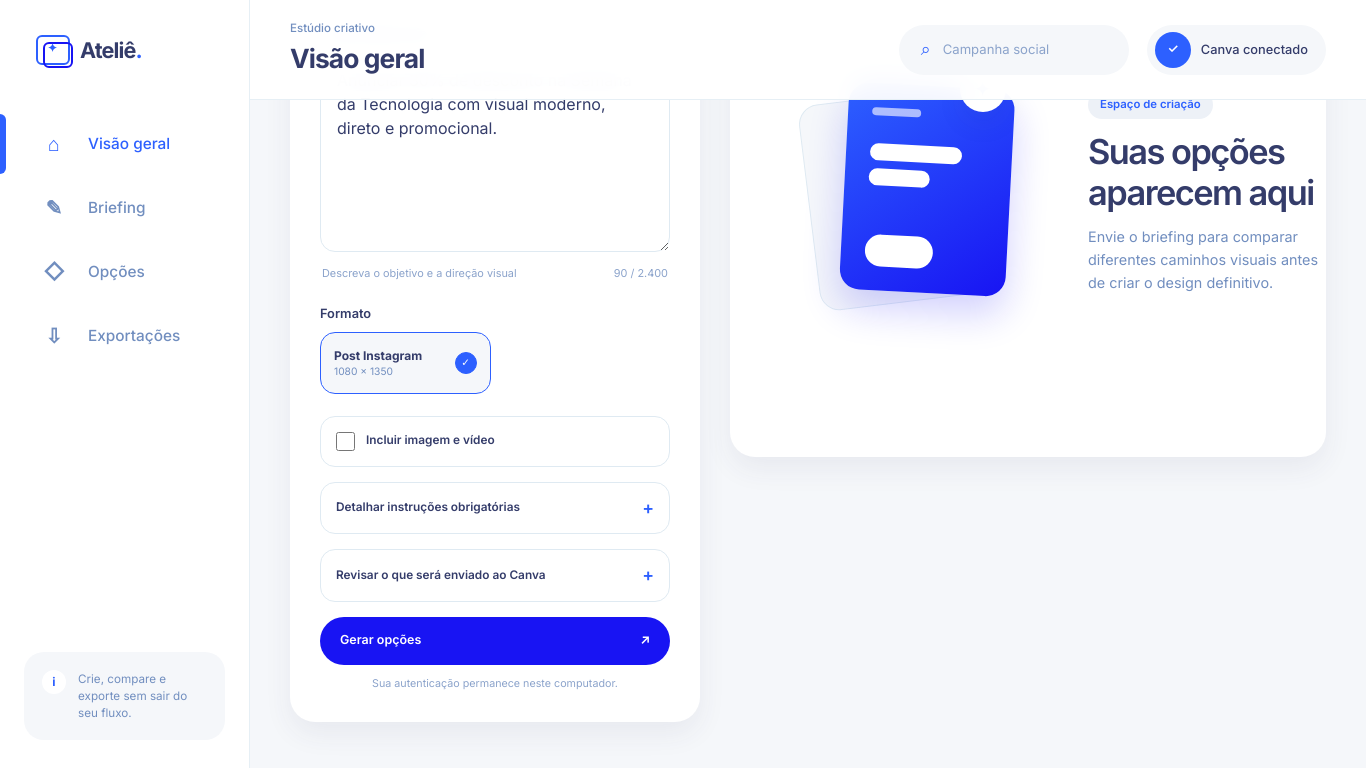
Test case: Home › apresenta os candidatos sem criar um design automaticamente
(page scrolled)
Expected: the text "Canva conectado" is shown, [1201, 40, 1308, 59]
Click the button "Gerar opções ↗".
click(381, 640)  # box [320, 617, 670, 665]
(page scrolled)
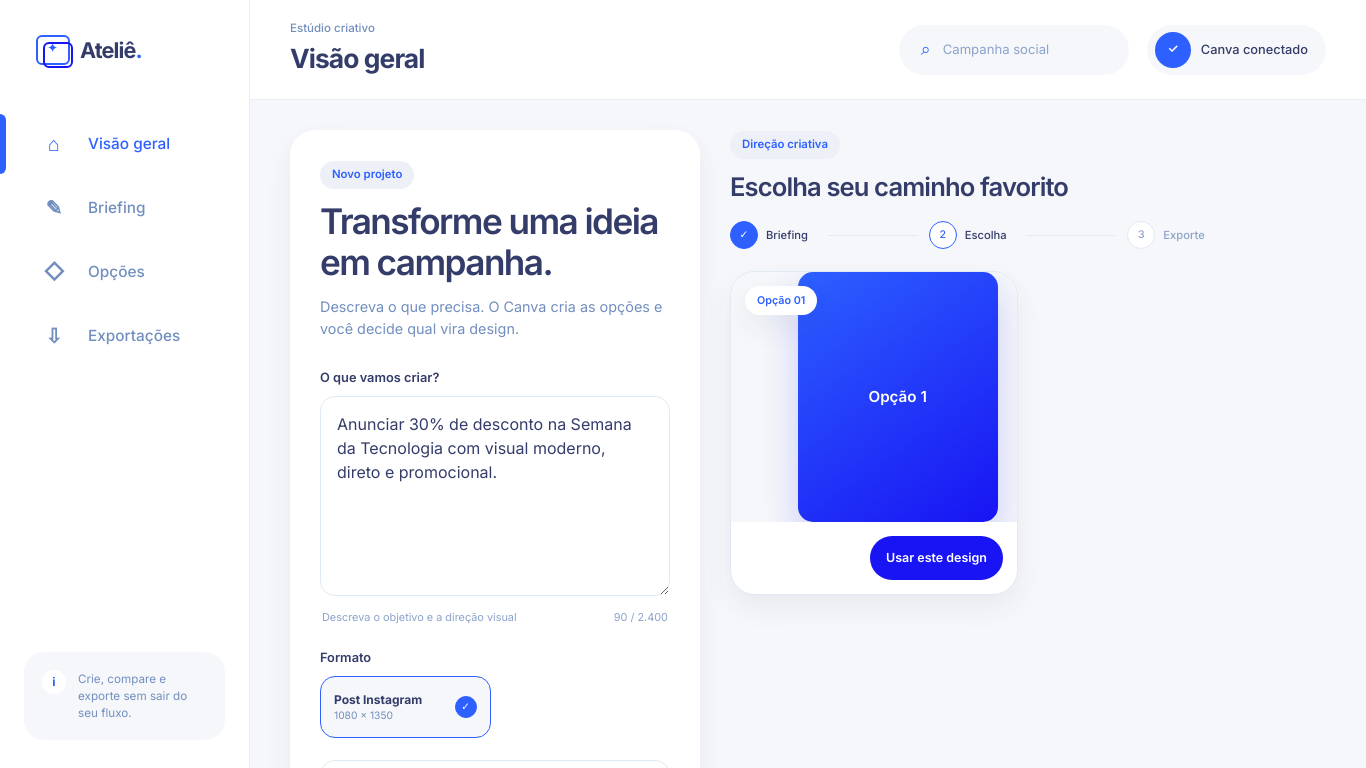
Expected: the text "Opção 1" is shown, [868, 386, 927, 409]
Expected: the heading "Escolha seu caminho favorito" is shown, [730, 170, 1068, 203]
